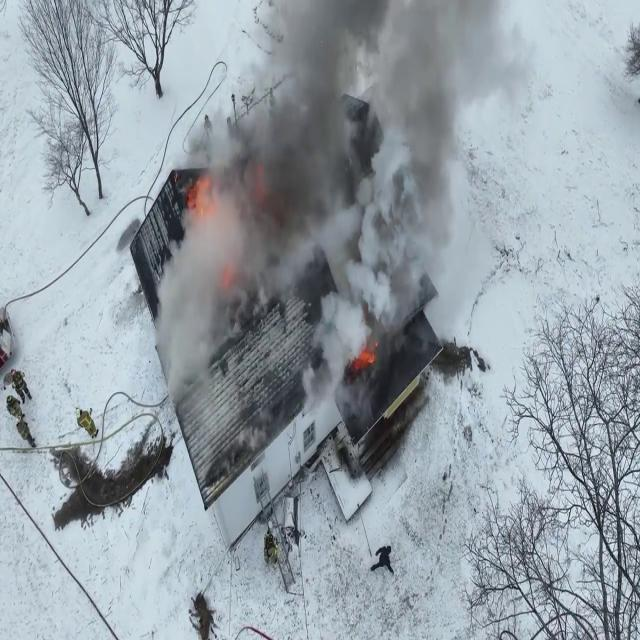Smoke: (137, 1, 516, 439)
